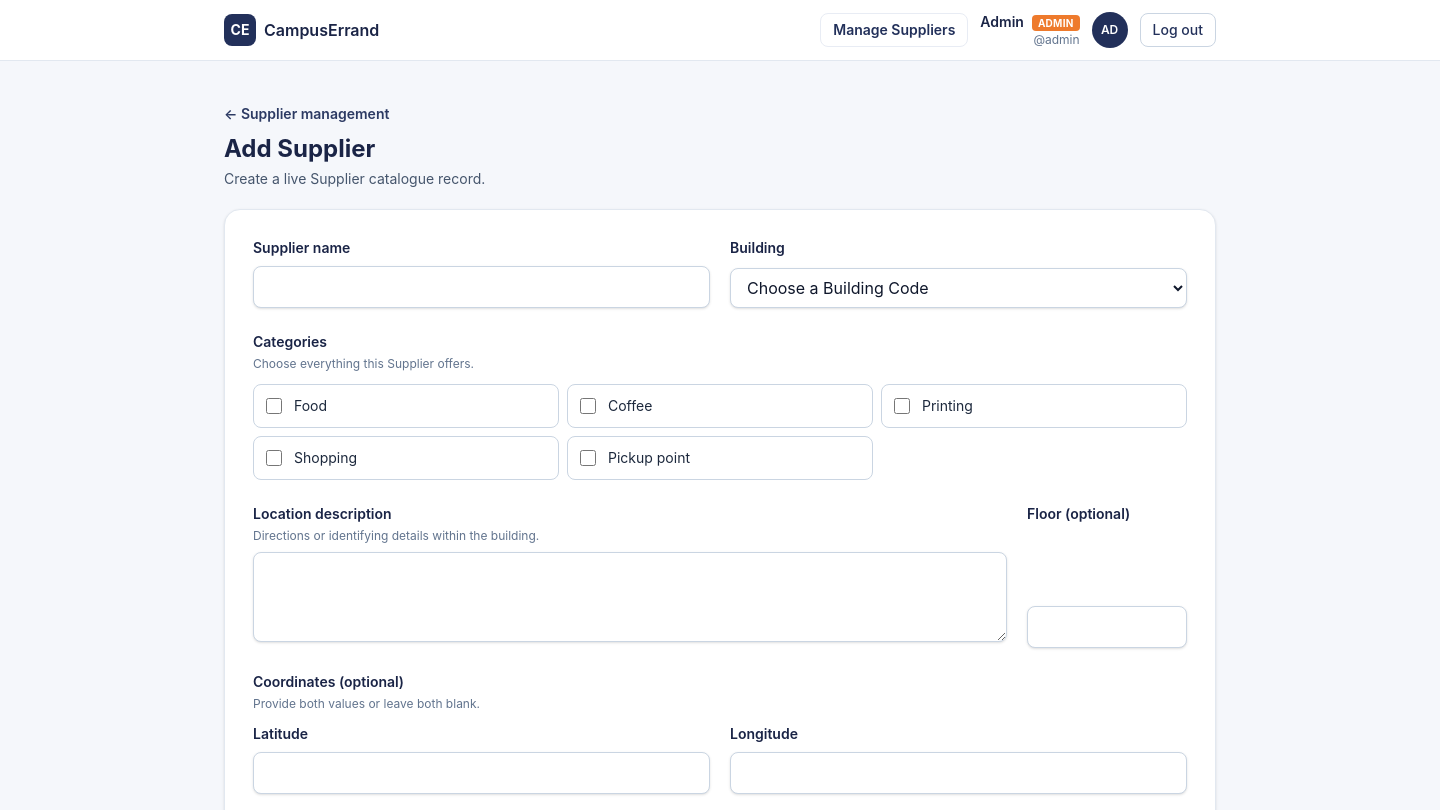
it: SupplierFormPage › keeps create values and links to the existing Supplier after duplicate 409
Type "Duplicate draft" into the field labelled "Supplier name" at (482, 287), box 253,266 -> 710,308
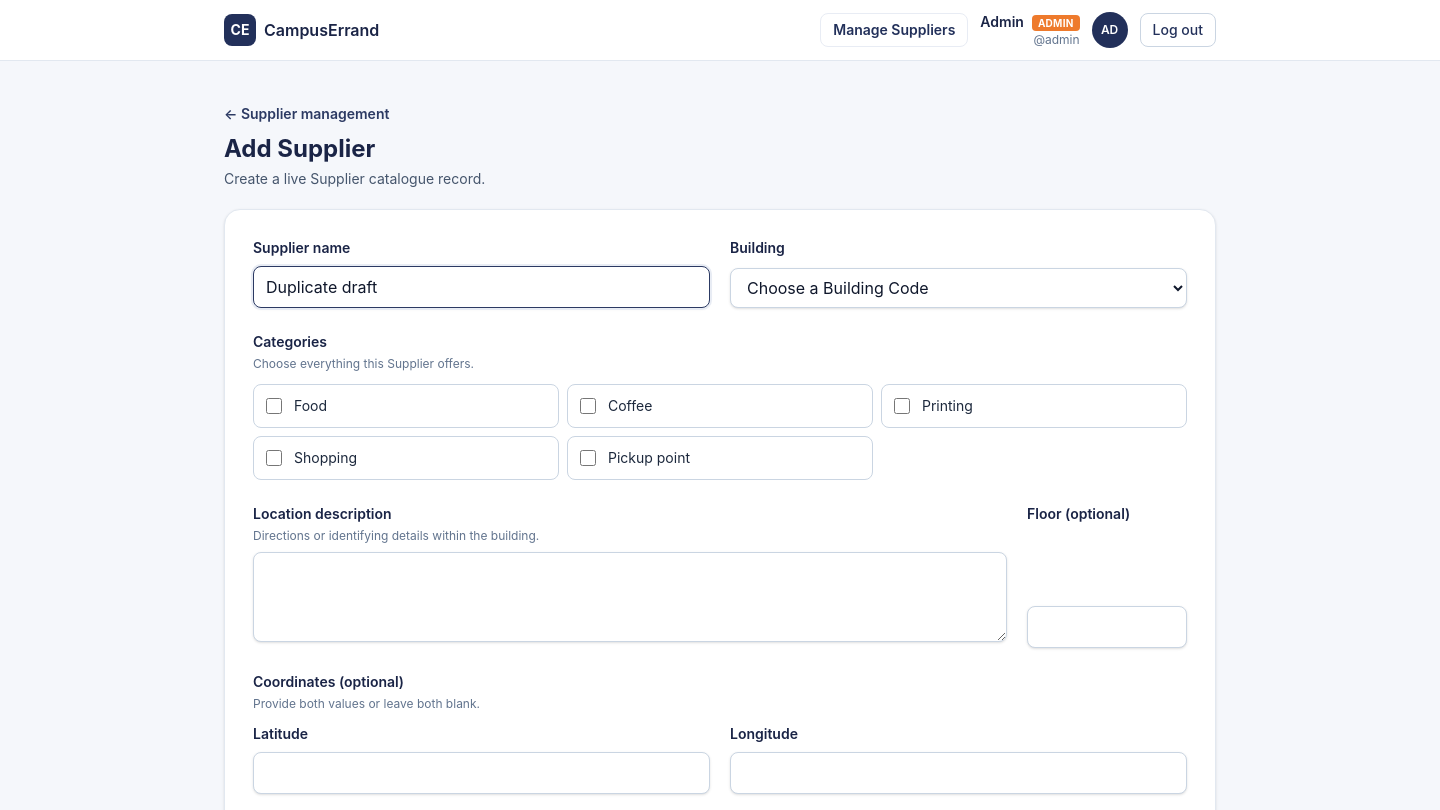
Select "COM2 (COM2)" in the dropdown labelled "Building" at (958, 288), box 730,268 -> 1187,308
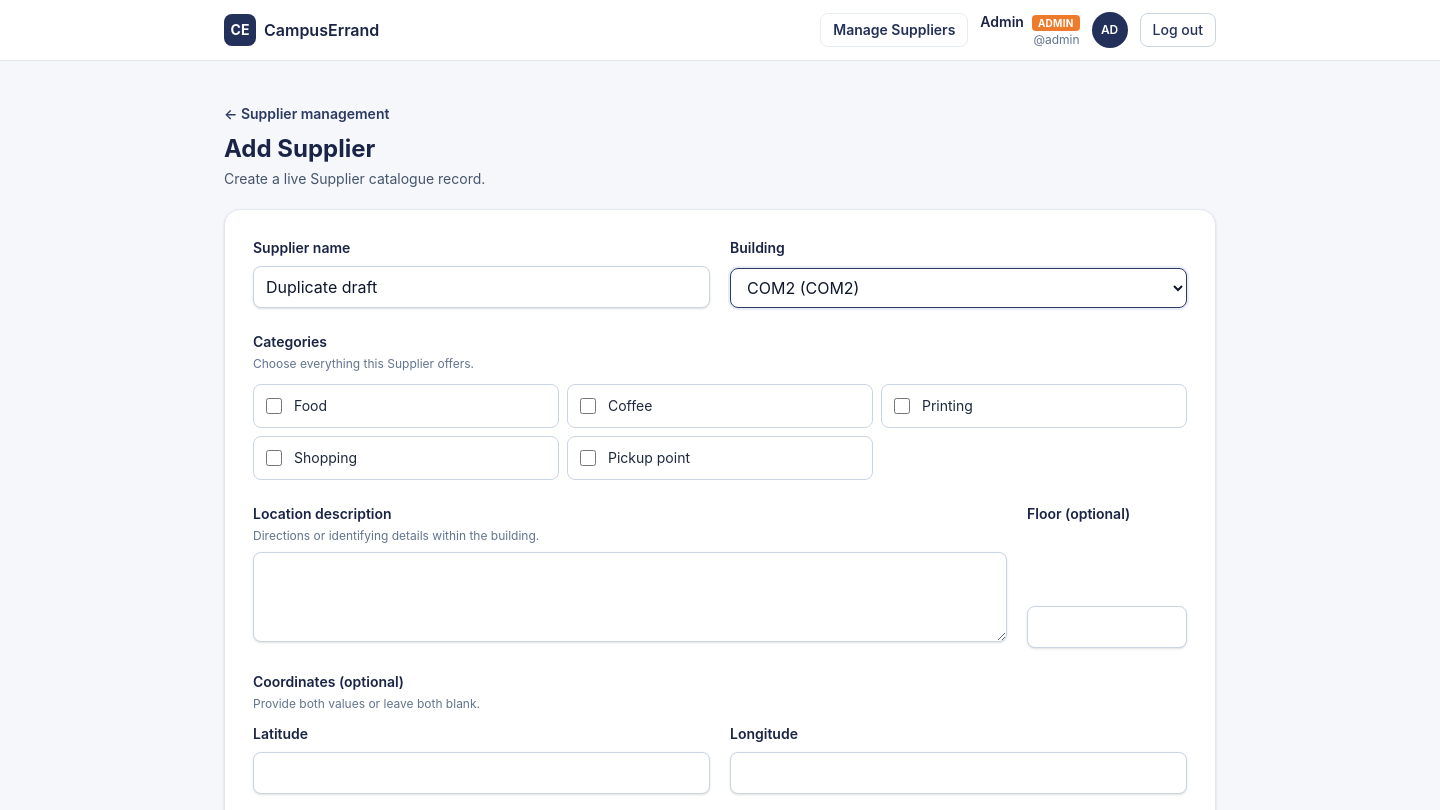
Click the checkbox labelled "Shopping" at (274, 458), box 266,450 -> 282,466
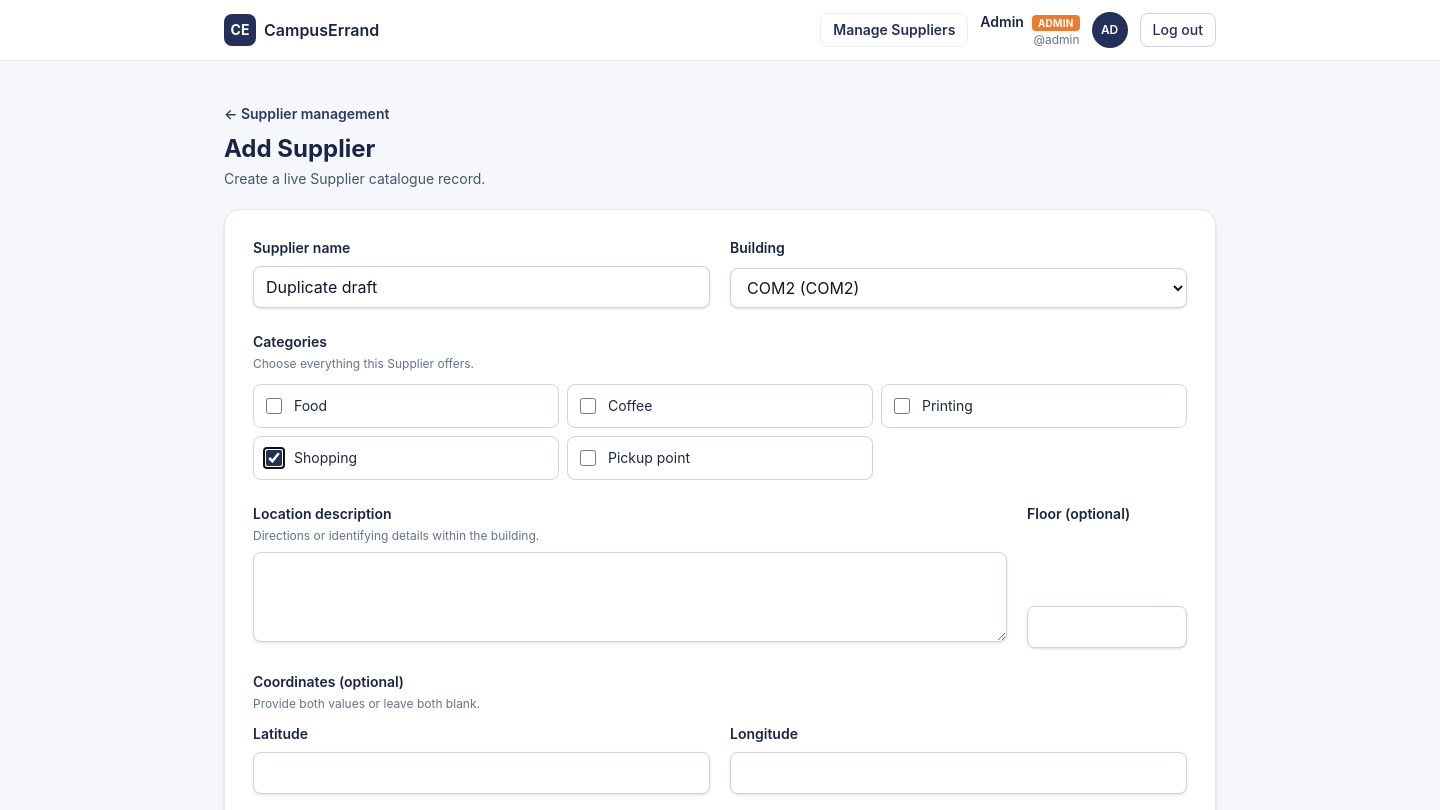
Type "Main foyer" into the text box labelled "Location description" at (630, 597), box 253,552 -> 1007,642
(page scrolled)
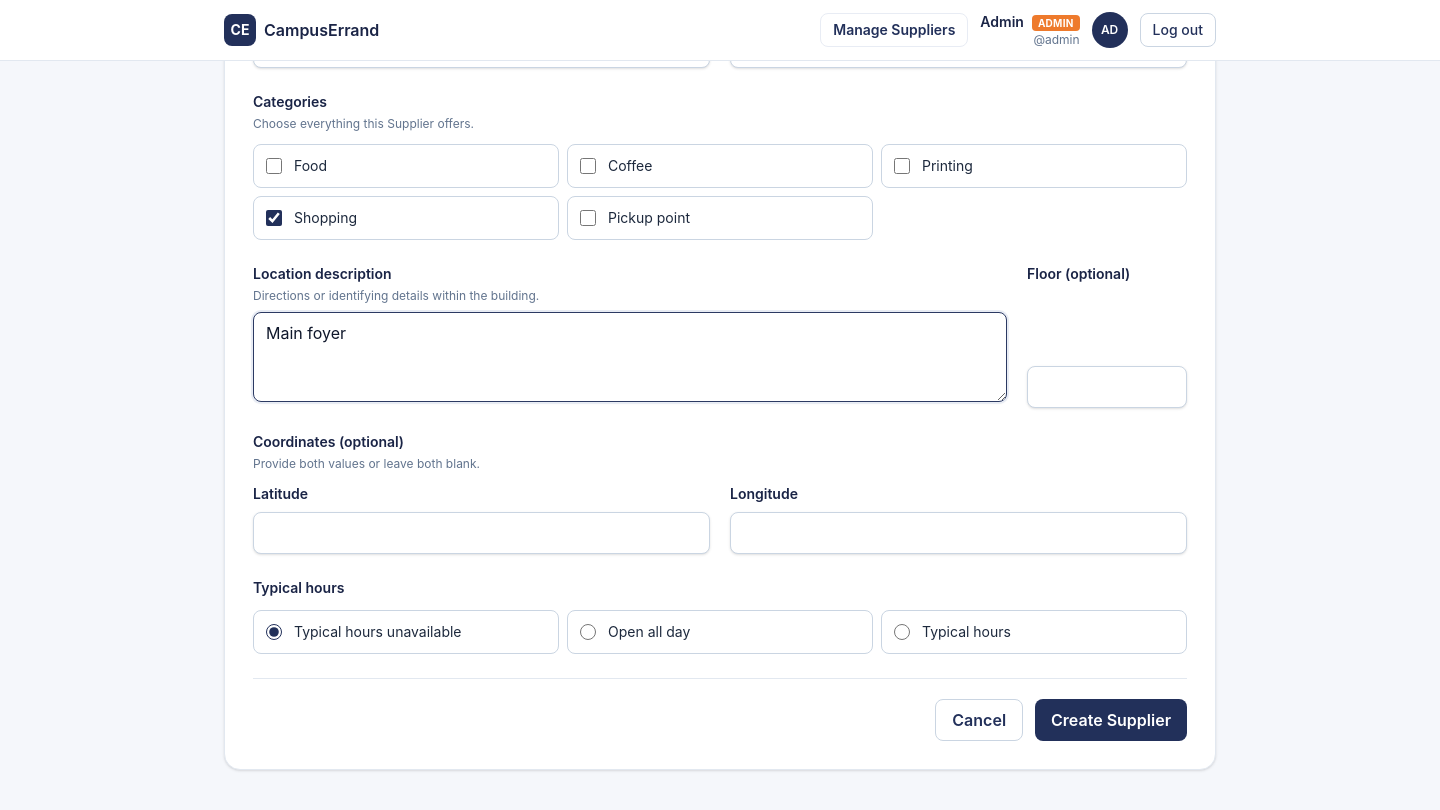
Click the button "Create Supplier" at (1111, 720), box 1035,699 -> 1187,741
(page scrolled)
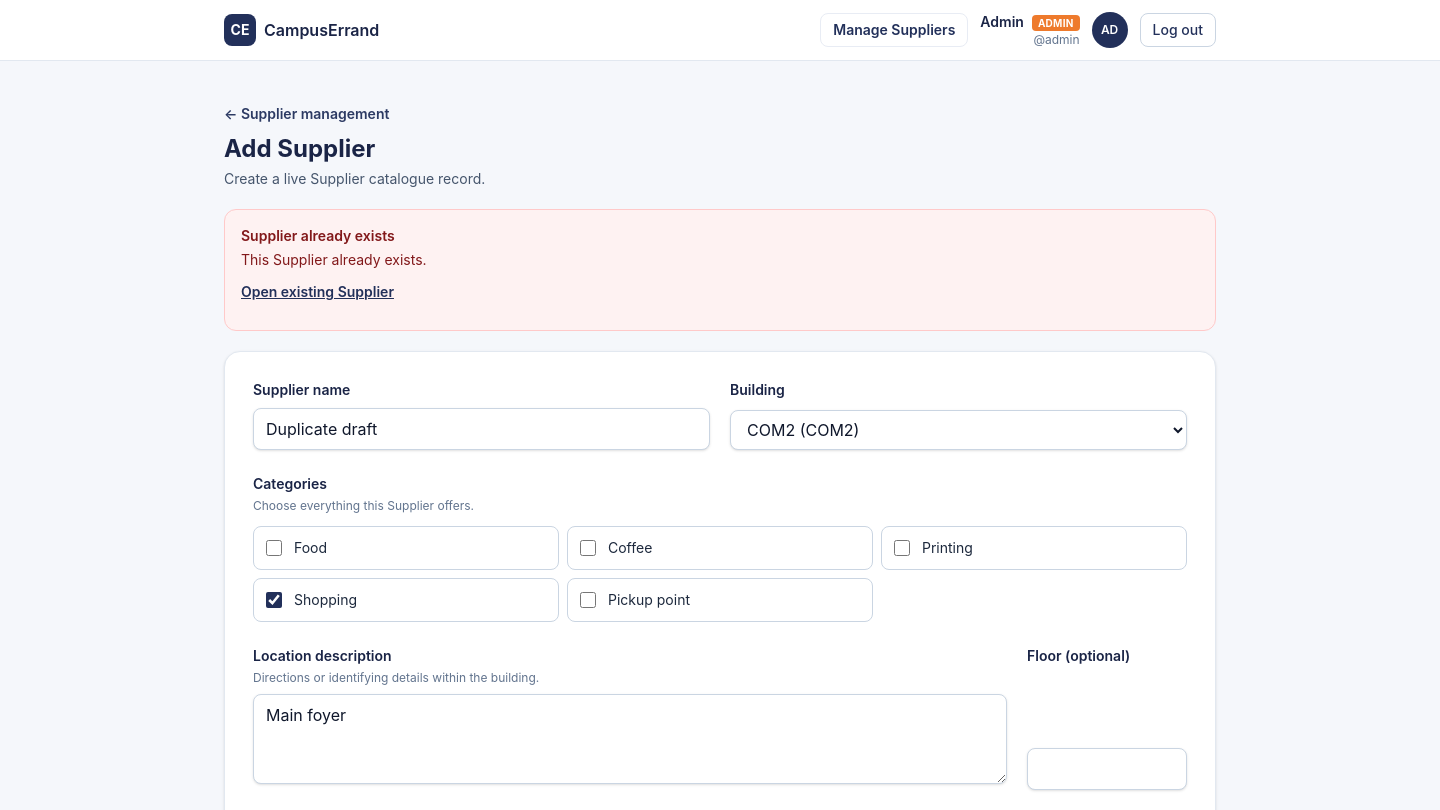
Expected: the text "Supplier already exists" is shown, 241,227 -> 395,244
